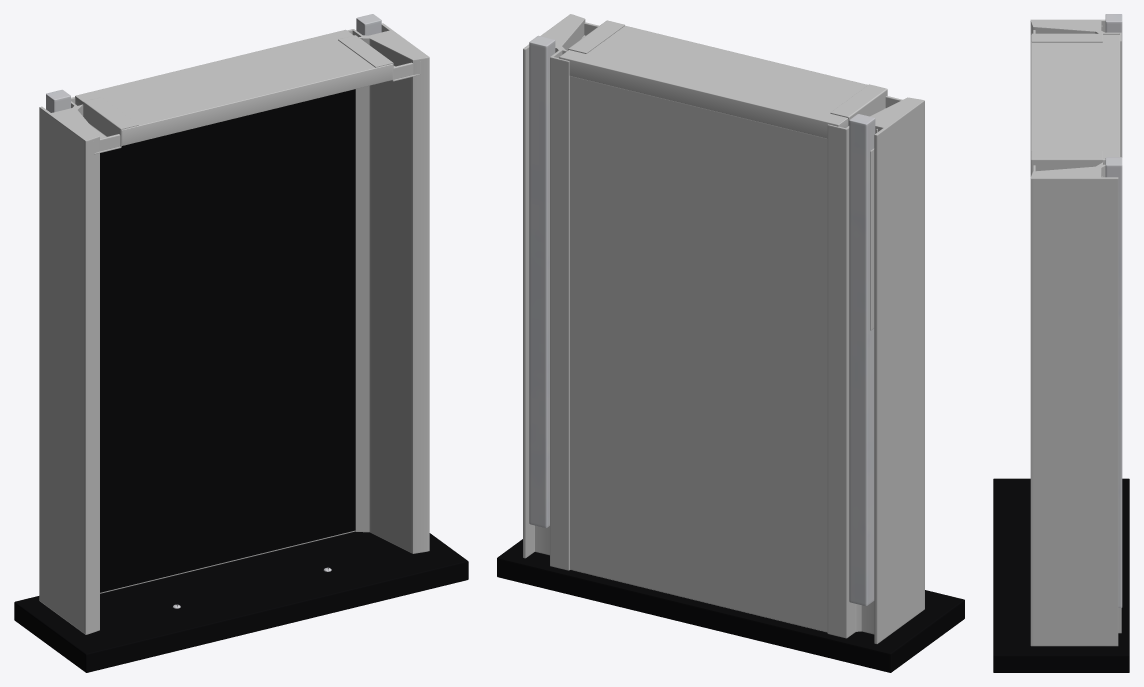
File: SM_Kitchen_06_Base_Drawer_01.obj
3 views of the same model, side by side, from view 1: azimuth 30°, elevation 25°; view 2: azimuth 150°, elevation 25°; view 3: azimuth 270°, elevation 25° (orthographic). The views are drawn at different scales.
Parts seen in each view (by area): view 1: SM_Kitchen_06_Base_Drawer_01; view 2: SM_Kitchen_06_Base_Drawer_01; view 3: SM_Kitchen_06_Base_Drawer_01.
Part boxes in pixels (left/top/right/bottom): SM_Kitchen_06_Base_Drawer_01: left=14, top=14, right=468, bottom=672; SM_Kitchen_06_Base_Drawer_01: left=497, top=14, right=964, bottom=672; SM_Kitchen_06_Base_Drawer_01: left=993, top=14, right=1129, bottom=672.
Bounding box in the file's own units: 0.398 × 0.5199 × 0.13.
Materials: 4 (1 with a texture image).
